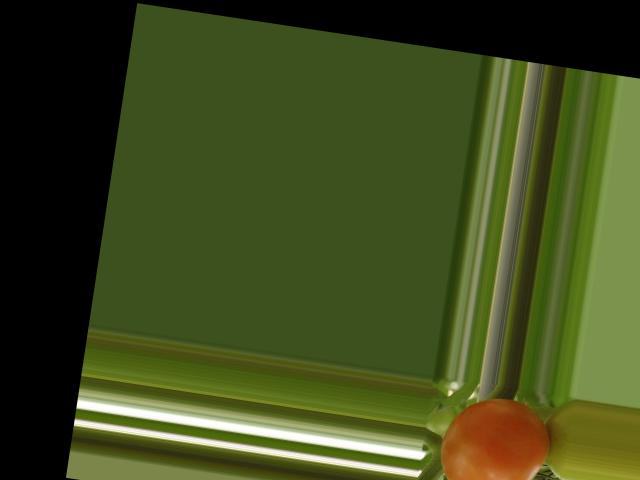tomato: (434, 390, 555, 480)
